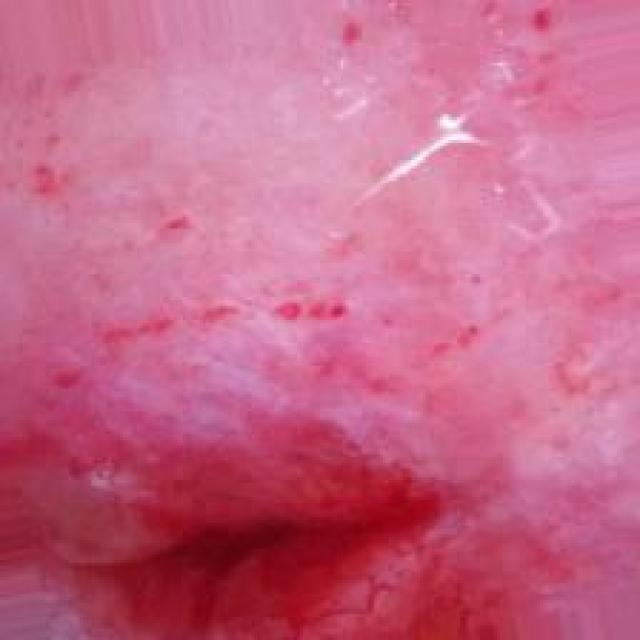type-1: (36, 41, 552, 640)
